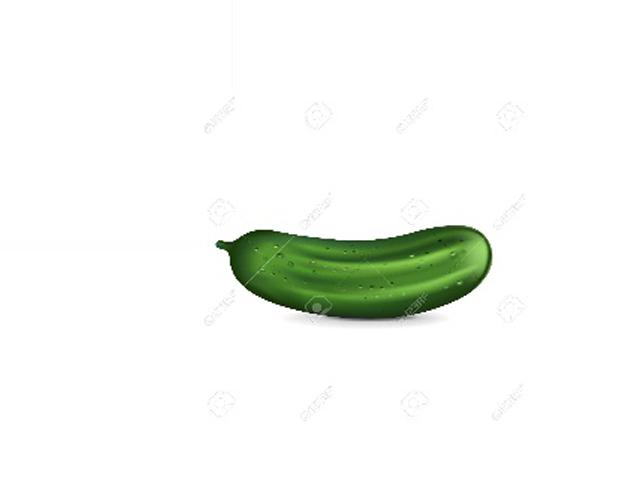cucumber: (216, 225, 492, 320)
